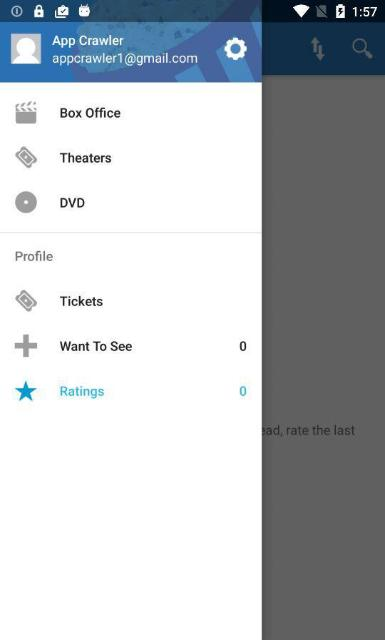Drawer: (1, 22, 262, 640)
Icon: (10, 34, 42, 64), (15, 100, 37, 124), (14, 146, 38, 168), (14, 334, 38, 356), (224, 38, 246, 61), (15, 289, 37, 311), (15, 380, 37, 402), (14, 195, 38, 207)
List: (1, 234, 262, 418), (1, 83, 262, 233)
Text: (52, 52, 198, 66), (51, 34, 123, 48), (60, 341, 132, 351), (60, 106, 120, 118), (59, 152, 111, 164), (60, 385, 104, 399), (60, 295, 102, 307), (16, 250, 52, 260), (60, 196, 84, 208), (240, 386, 246, 396), (240, 340, 246, 350)
UpperTaskBar: (0, 0, 384, 22)
